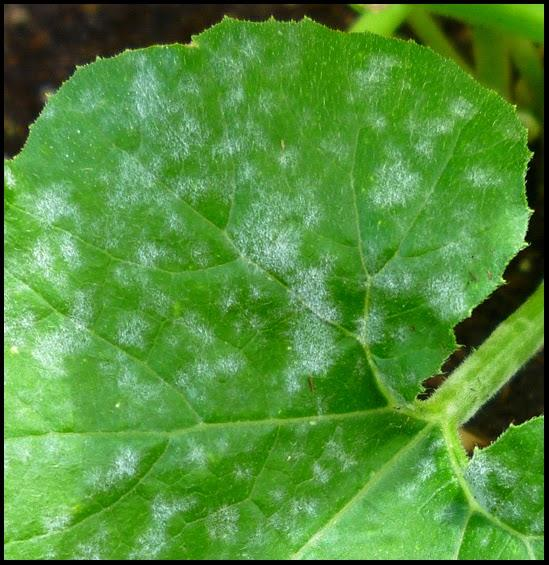Squash Powdery mildew leaf: (6, 6, 539, 555)
